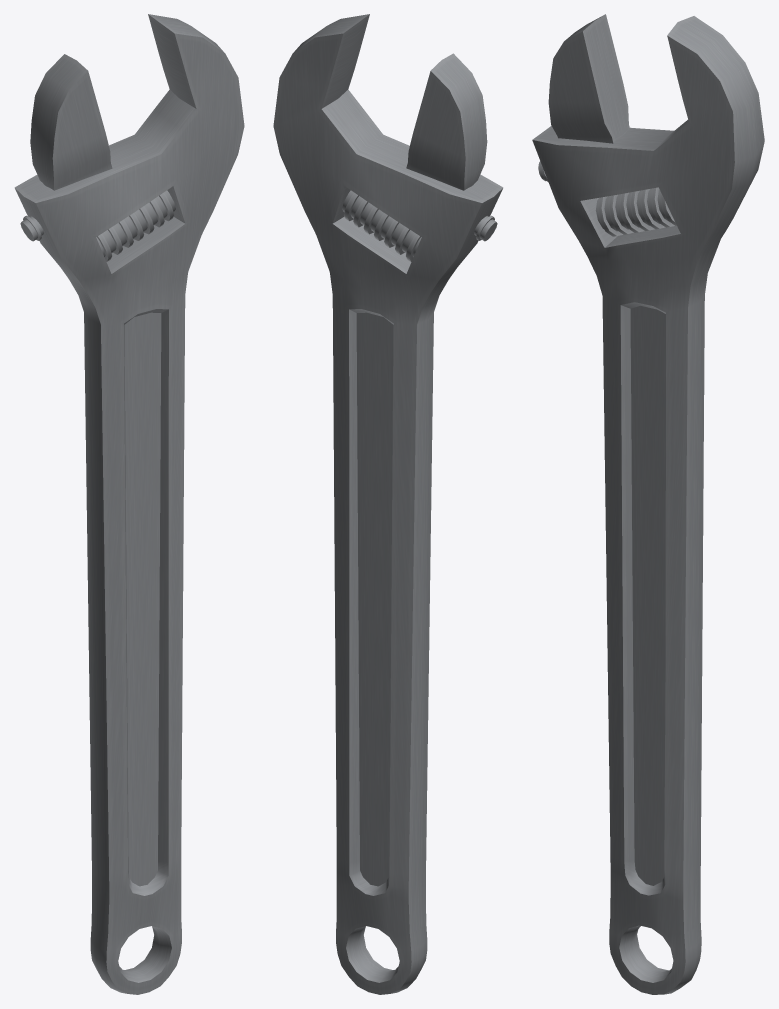
Rendered from Wrench.fbx.
3 views of the same model, side by side, from view 1: azimuth 30°, elevation 25°; view 2: azimuth 150°, elevation 25°; view 3: azimuth 330°, elevation 25° (orthographic).
Parts seen in each view (by area): view 1: Wrench_LP; view 2: Wrench_LP; view 3: Wrench_LP.
Part boxes in pixels (left/top/right/bottom): Wrench_LP: left=14, top=14, right=244, bottom=994; Wrench_LP: left=273, top=14, right=503, bottom=994; Wrench_LP: left=532, top=14, right=764, bottom=994.
Bounding box in the file's own units: 4.51 × 19.64 × 1.28.
